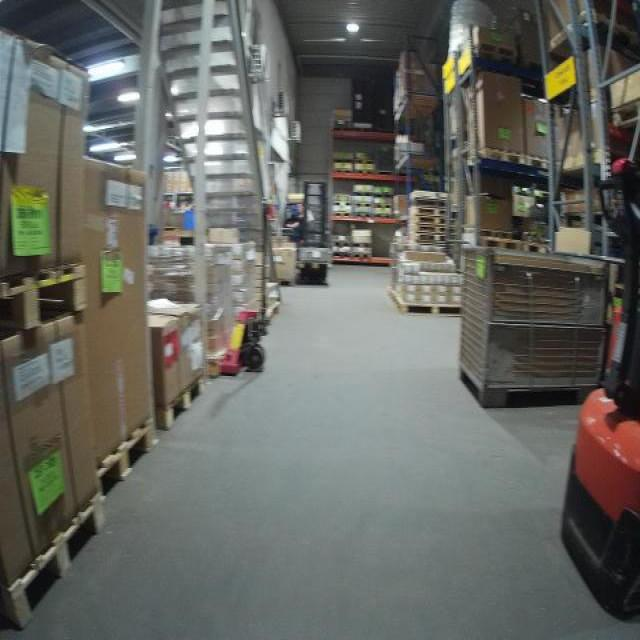pallet: (7, 490, 107, 631), (0, 261, 89, 344), (97, 419, 157, 501), (549, 11, 640, 61), (159, 368, 208, 431), (398, 299, 465, 319), (466, 149, 526, 171), (476, 42, 518, 63), (612, 98, 640, 128), (525, 155, 558, 176), (481, 237, 522, 253), (408, 210, 448, 221), (413, 226, 448, 238), (408, 200, 448, 210), (410, 238, 448, 247), (413, 221, 448, 226), (333, 199, 352, 207), (355, 158, 376, 165), (352, 241, 373, 248), (333, 240, 353, 247), (332, 158, 354, 164), (352, 191, 374, 197), (355, 169, 376, 175), (334, 168, 354, 174), (353, 252, 373, 258), (332, 252, 352, 258), (354, 211, 371, 218), (373, 203, 392, 209), (333, 212, 352, 218), (353, 202, 373, 207), (374, 193, 393, 198)
pallet_truck: (554, 154, 638, 625), (215, 196, 281, 381), (293, 179, 332, 291)
stillage: (447, 234, 610, 413)
